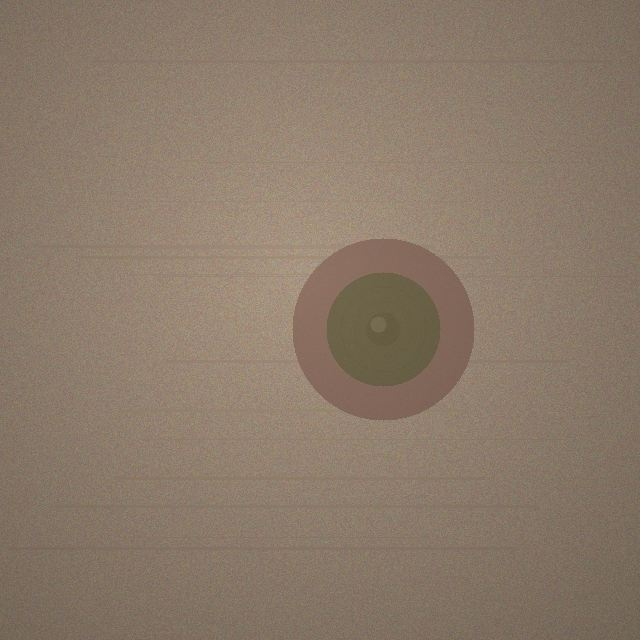good: (292, 238, 474, 420)
